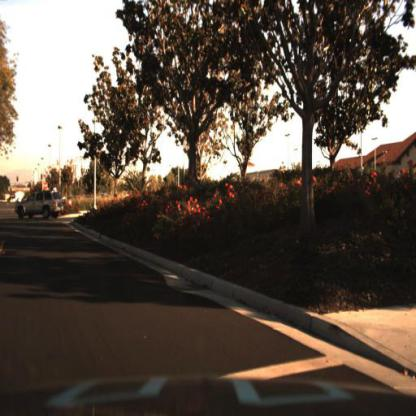car: (9, 184, 73, 228)
